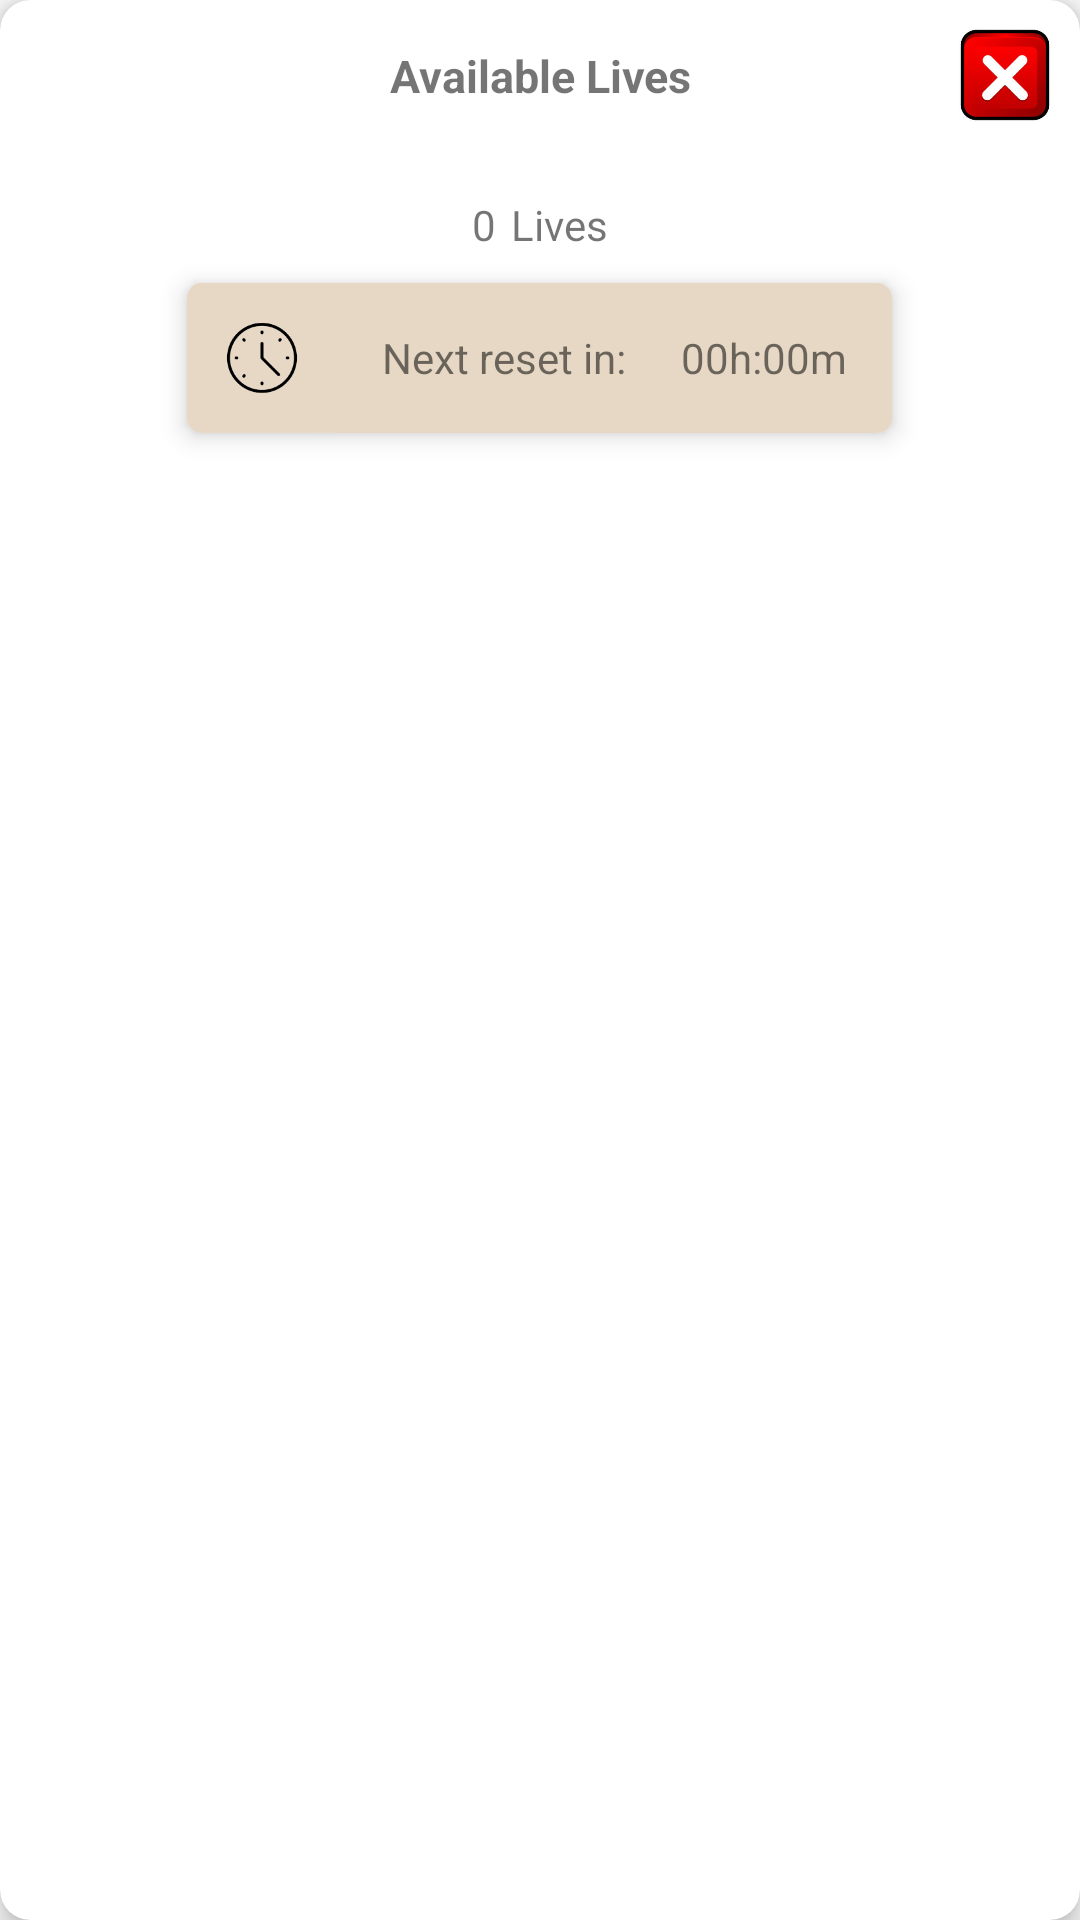

Locate icon controls on the screen. Image size 1080x1920, boxes as (x1, y1, x2, y2).
clock: (187, 283, 337, 433)
Close: (960, 0, 1080, 121)
